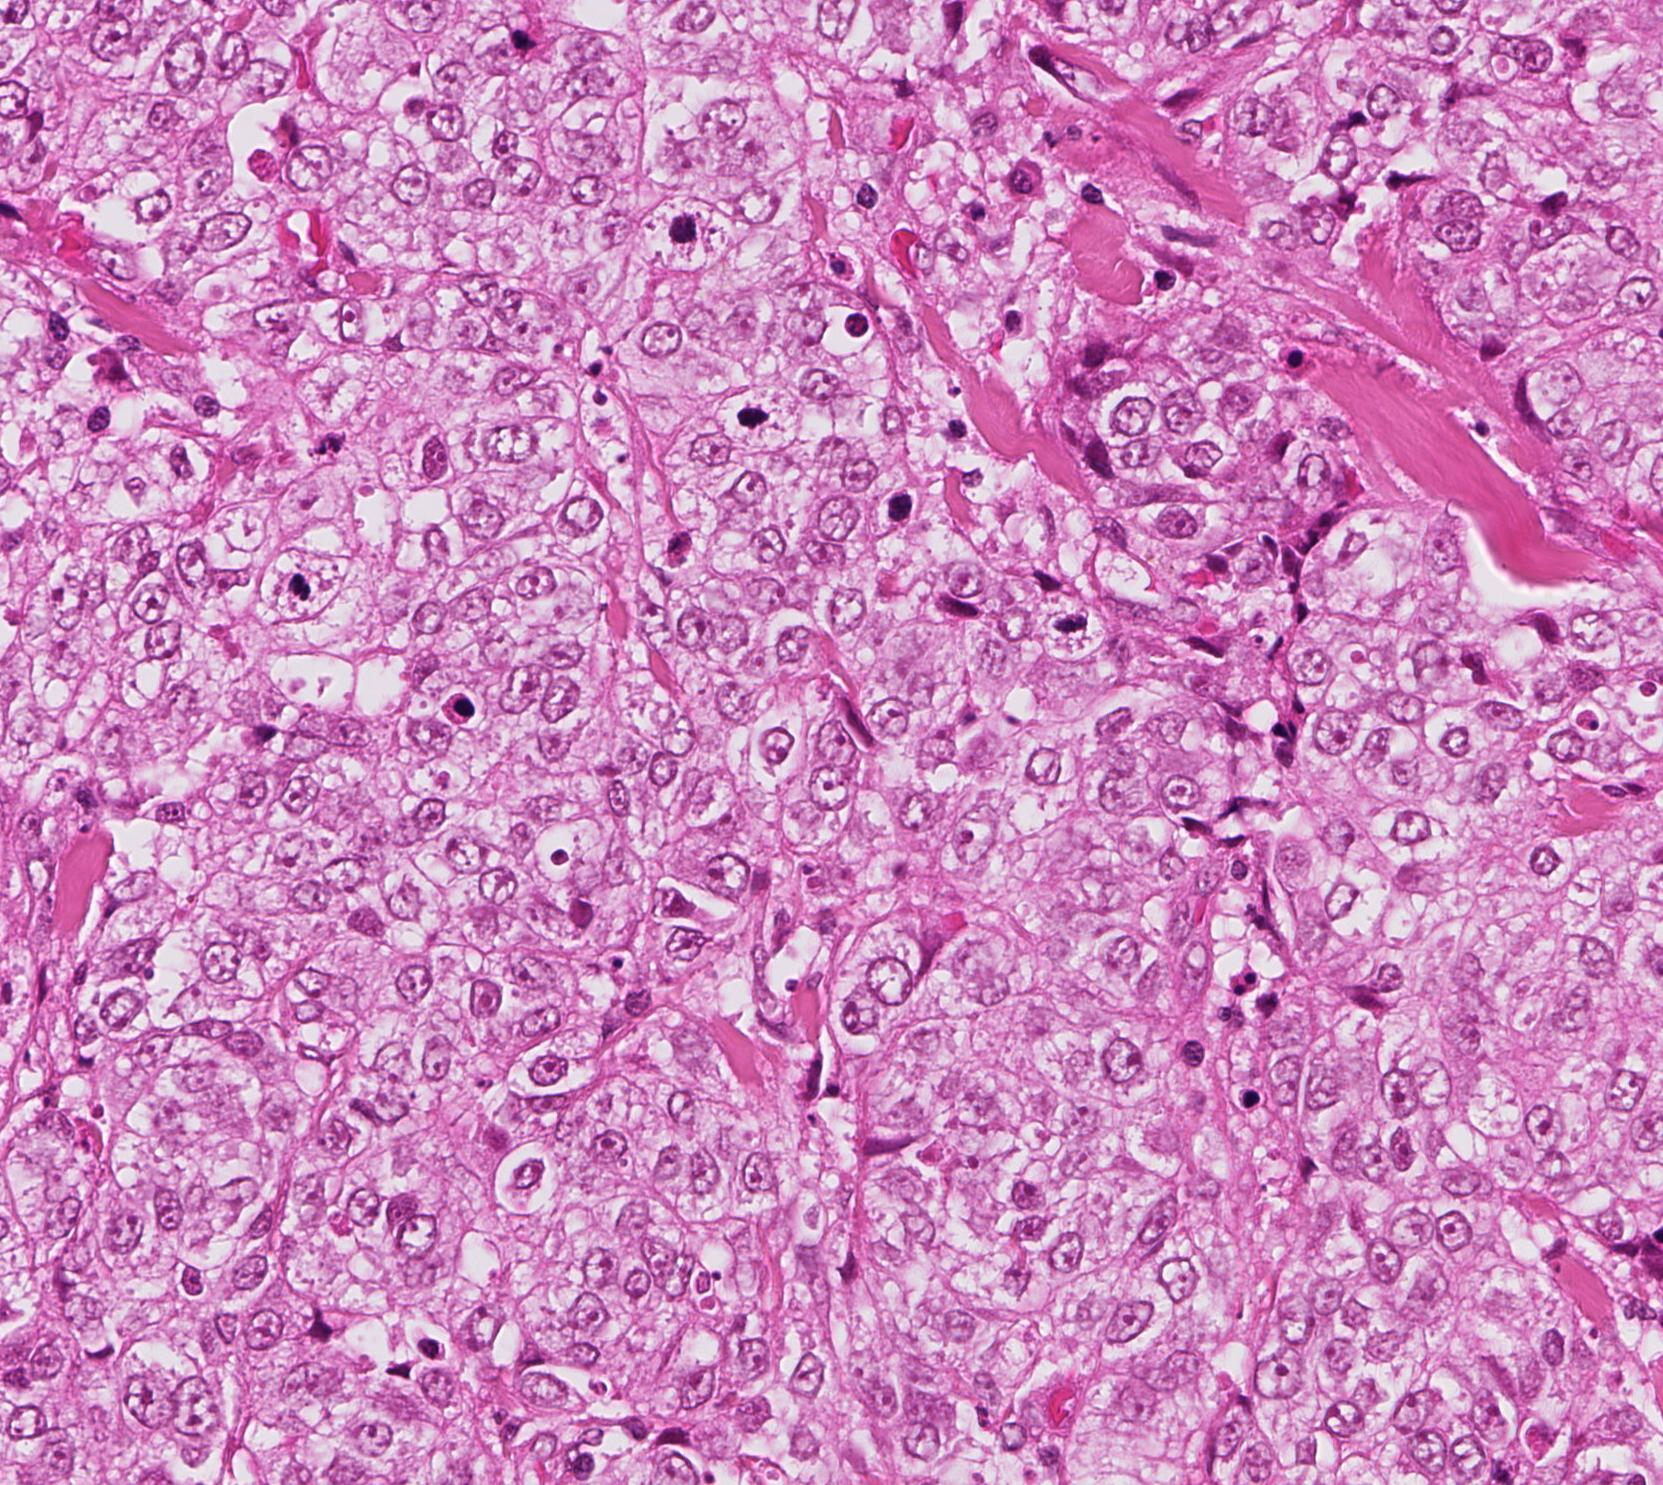mitosis: (651, 191, 711, 251), (1038, 595, 1098, 655), (272, 555, 333, 615)
